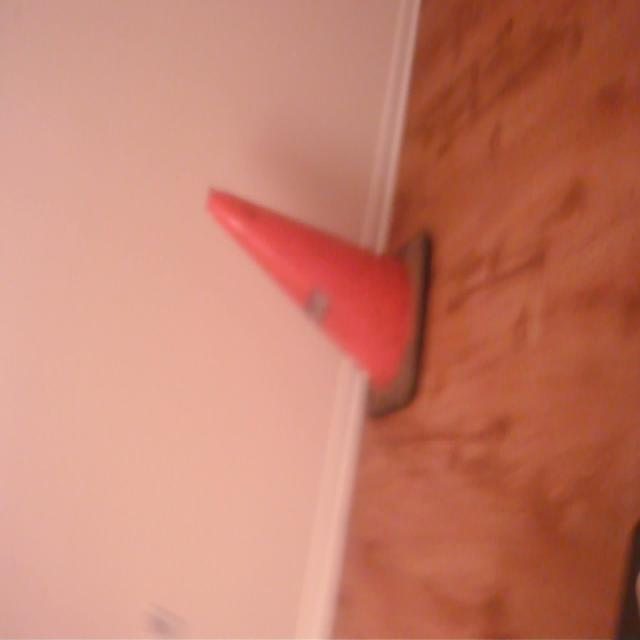traffic cone: (201, 179, 436, 434)
